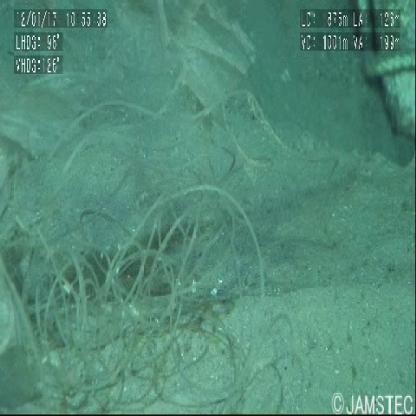Rác: (1, 120, 277, 416)
